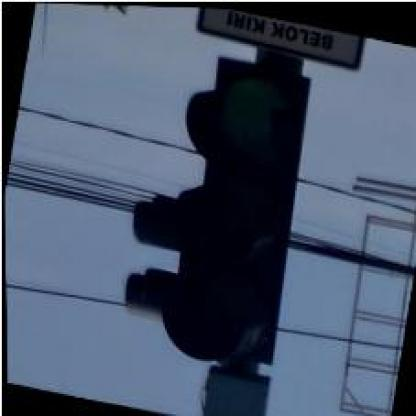green: (141, 50, 324, 375)
